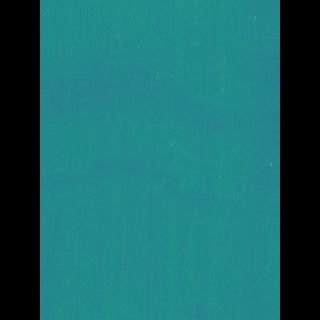Loch: (67, 42, 250, 245)
